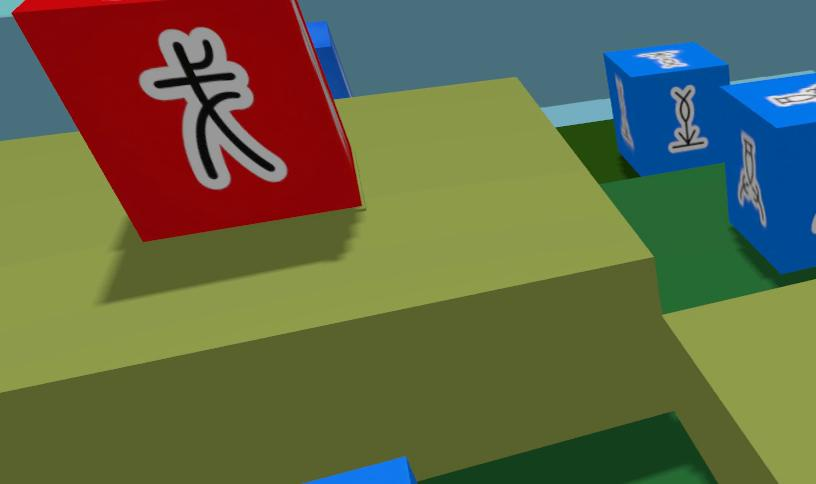KFS_FAKE: (13, 0, 362, 240), (139, 27, 287, 189)
KFS_REAL: (710, 73, 815, 271), (603, 43, 729, 174), (737, 132, 767, 226), (305, 458, 416, 483), (668, 85, 707, 153), (614, 76, 633, 148), (634, 49, 687, 68), (811, 215, 815, 233)
